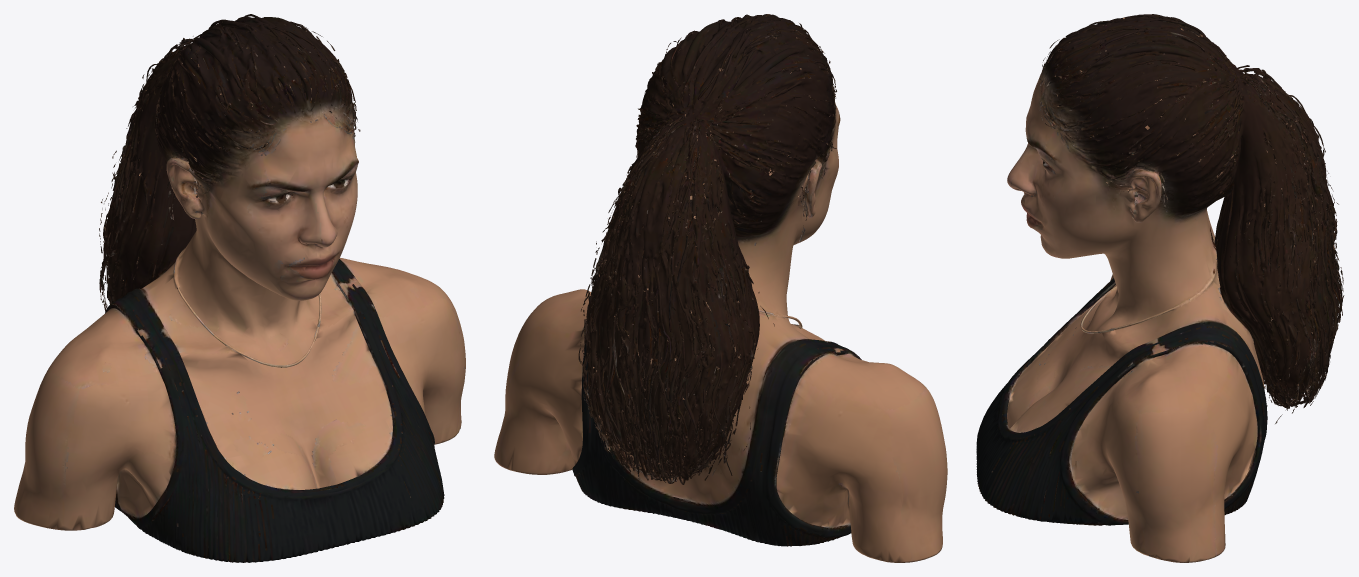
File: lucia-v2.glb
The picture shows the model from 3 angles, left to right: view 1: azimuth 30°, elevation 25°; view 2: azimuth 150°, elevation 25°; view 3: azimuth 270°, elevation 25°; orthographic projection. The views are drawn at different scales.
Size of the model in its own units: 1.9 by 1.9 by 1.45.
Materials: 1 (1 with a texture image).
